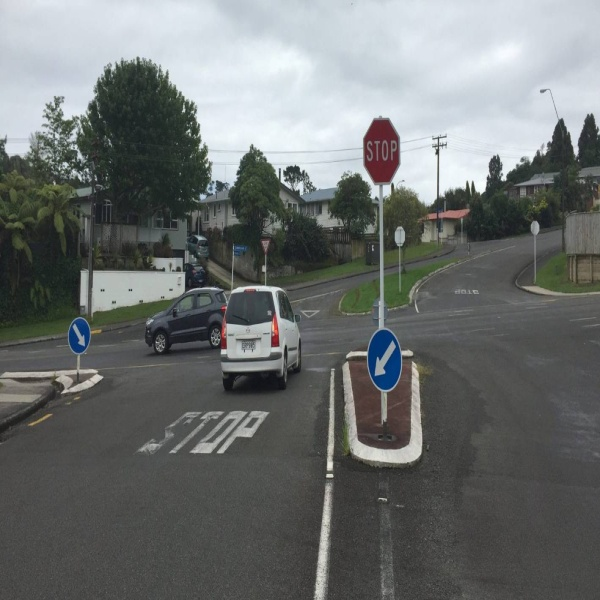stop: (365, 113, 402, 179)
